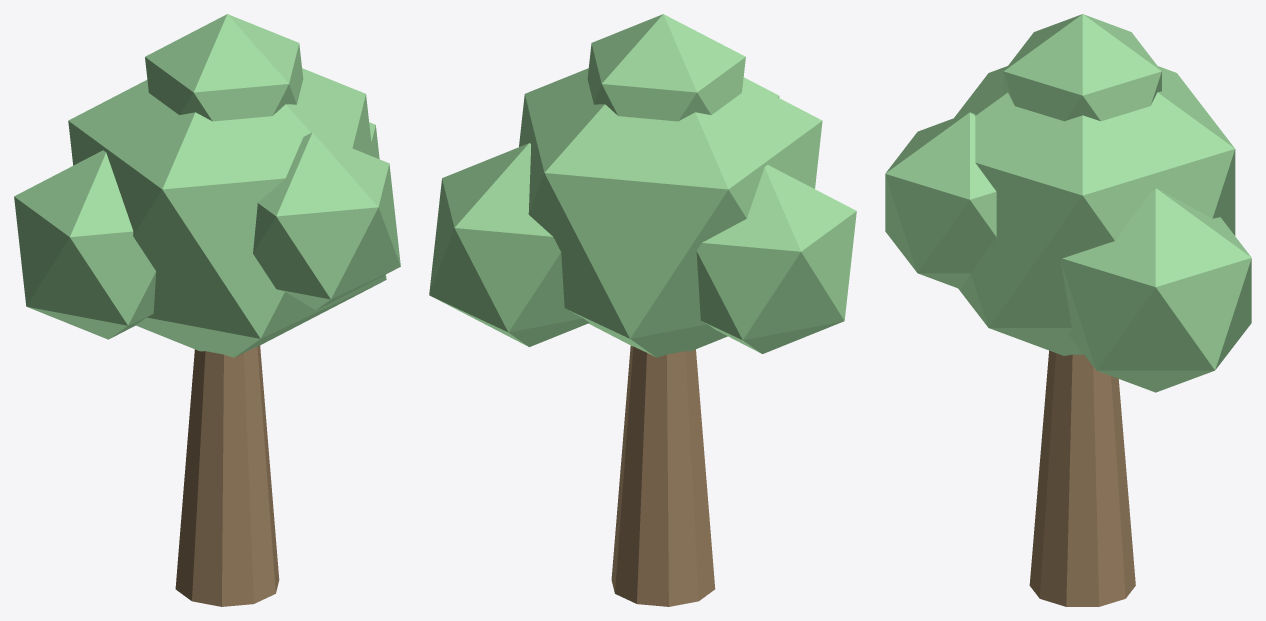
File: tree_classic.fbx
3 views of the same model, side by side, from view 1: azimuth 30°, elevation 25°; view 2: azimuth 150°, elevation 25°; view 3: azimuth 270°, elevation 25° (orthographic).
Visible parts, largest first — view 1: Leaf0, Trunk, Leaf3, Leaf2, Leaf4; view 2: Leaf0, Trunk, Leaf2, Leaf1, Leaf4; view 3: Leaf0, Leaf1, Trunk, Leaf3, Leaf4.
Part boxes in pixels (x1,y1,x2,y2): Leaf0: (68,68,386,357); Trunk: (175,345,279,606); Leaf3: (253,132,400,309); Leaf2: (14,150,156,339); Leaf4: (145,14,303,121); Leaf0: (519,68,822,357); Trunk: (611,346,715,606); Leaf2: (696,165,856,353); Leaf1: (429,143,589,347); Leaf4: (587,14,745,121); Leaf0: (954,66,1235,355); Leaf1: (1060,188,1251,392); Trunk: (1029,350,1135,606); Leaf3: (885,112,996,289); Leaf4: (1003,14,1161,121).
Size of the model in its own units: 3.28 by 4.75 by 2.76.
